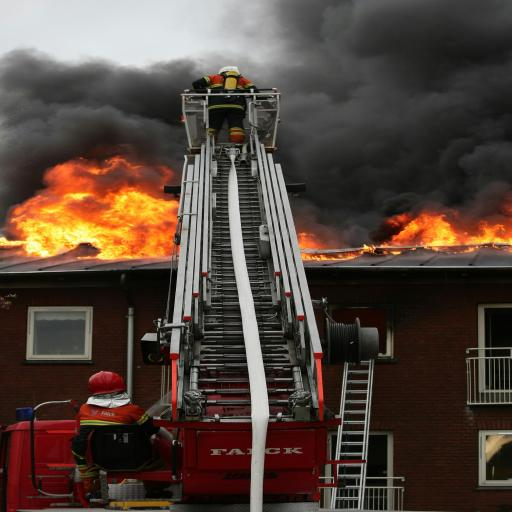buildingfire: (0, 135, 512, 396)
smoke: (0, 2, 512, 178)
